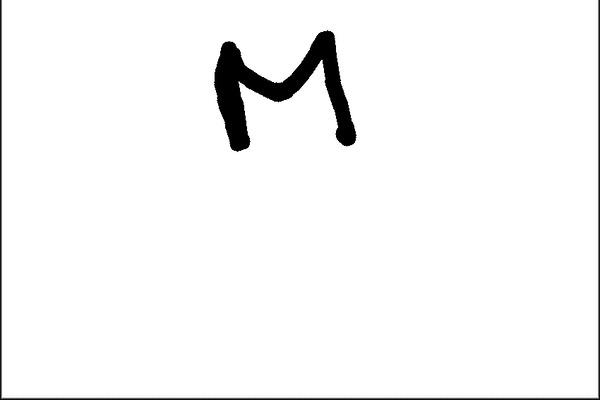M: (211, 30, 359, 151)
